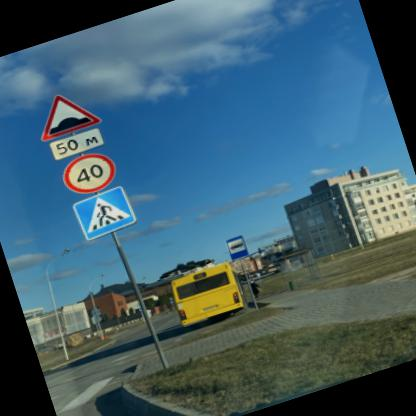crosswalk: (70, 184, 138, 242)
speedlimit: (56, 146, 118, 198)
